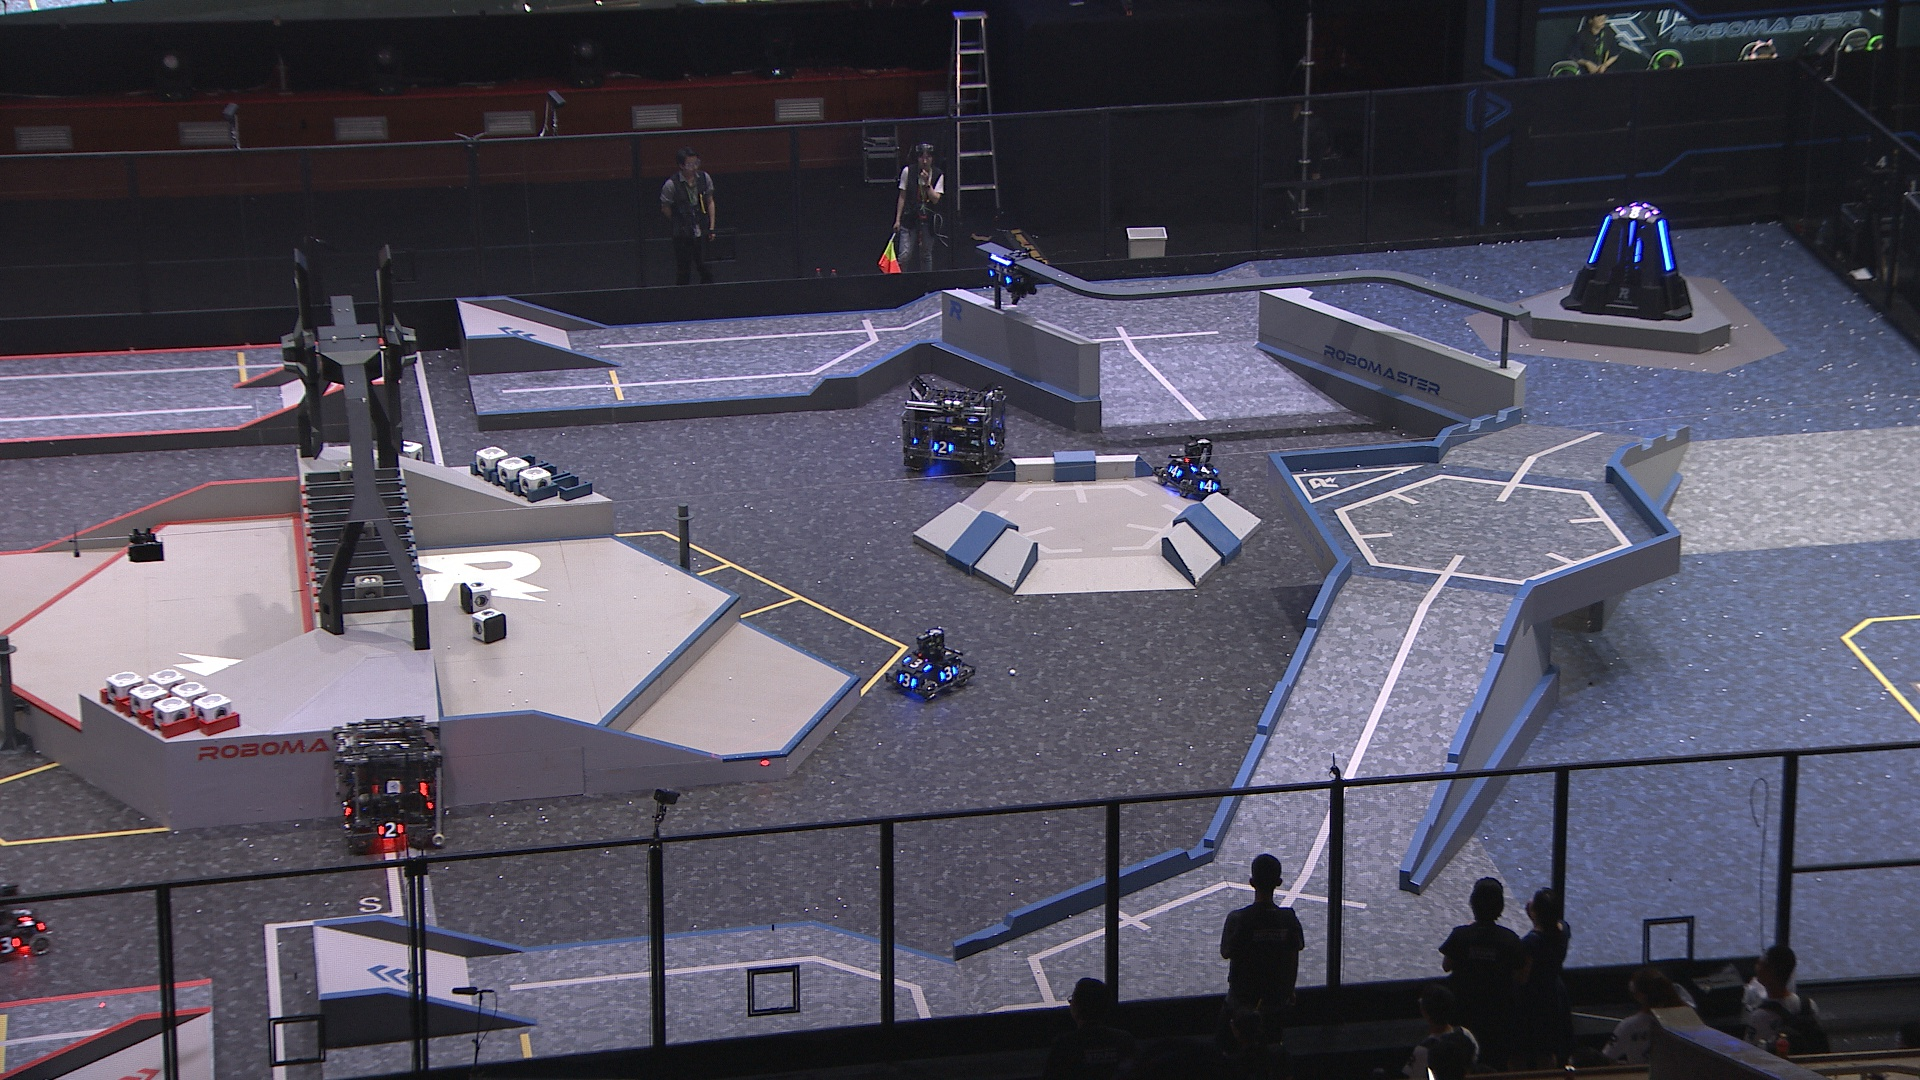armor: (1588, 214, 1613, 266), (1655, 218, 1676, 273), (902, 651, 931, 674), (376, 820, 405, 840), (986, 266, 1015, 286), (936, 661, 957, 684), (11, 905, 34, 924), (1, 934, 24, 953), (1188, 463, 1218, 477), (1625, 220, 1640, 247), (338, 798, 356, 820), (931, 438, 953, 456), (897, 673, 920, 690), (1164, 460, 1183, 481), (1197, 479, 1221, 495), (986, 427, 1000, 446)
base: (1557, 196, 1695, 324)
car: (328, 709, 452, 856), (899, 377, 1011, 483), (880, 626, 978, 704), (1150, 433, 1232, 501)
ignore: (1621, 204, 1652, 223)
watcher: (982, 248, 1040, 306)
